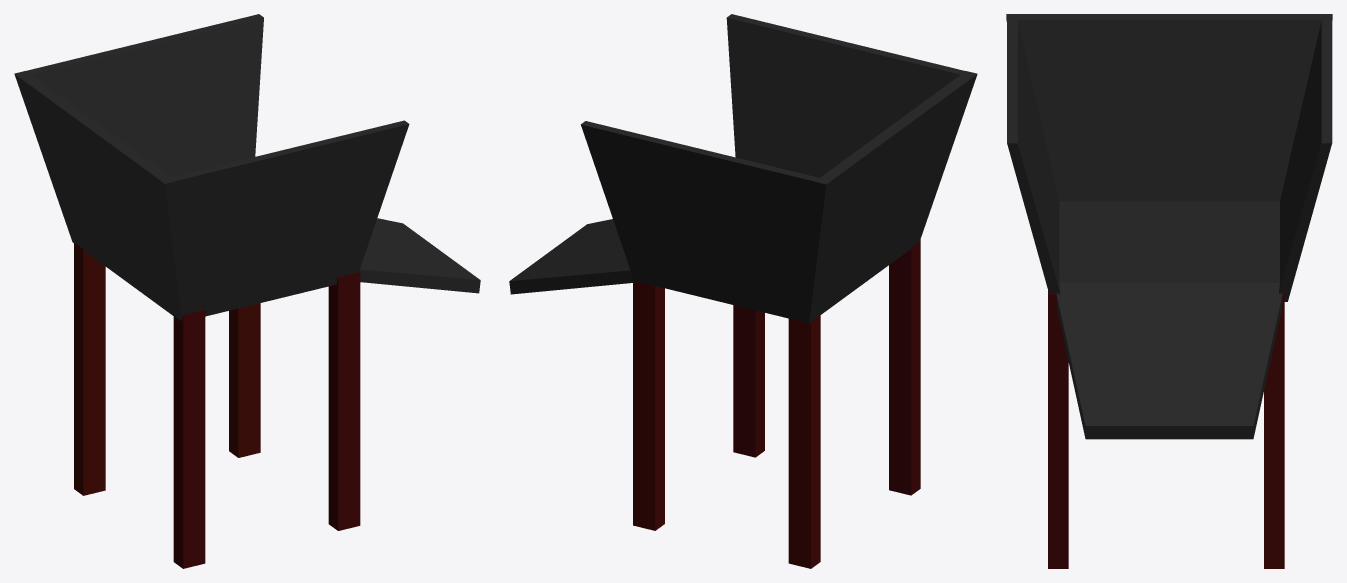
The model's file is nagruz.fbx.
3 renders of one model, left to right at view 1: azimuth 30°, elevation 25°; view 2: azimuth 150°, elevation 25°; view 3: azimuth 270°, elevation 25°, orthographic. The views are drawn at different scales.
Visible parts, largest first — view 1: Grid.003, Grid.002, Grid.004, Cube.003, Cube, Cube.002, Grid.001, Cube.001; view 2: Grid.002, Grid.003, Grid.004, Cube.002, Cube.001, Cube.003, Grid.001, Cube; view 3: Grid.004, Grid.001, Cube.004, Grid.002, Grid.003, Cube, Cube.001.
Part boxes in pixels (x1,y1,x2,y2): Grid.003: (165, 120, 409, 316); Grid.002: (26, 14, 263, 177); Grid.004: (14, 71, 193, 320); Cube.003: (173, 309, 205, 568); Cube: (328, 271, 360, 530); Cube.002: (74, 242, 105, 495); Grid.001: (359, 218, 480, 293); Cube.001: (229, 303, 260, 457); Grid.002: (580, 121, 823, 320); Grid.003: (726, 14, 966, 177); Grid.004: (796, 71, 977, 323); Cube.002: (788, 314, 820, 568); Cube.001: (633, 278, 664, 530); Cube.003: (889, 239, 920, 495); Grid.001: (509, 219, 632, 294); Cube: (733, 305, 764, 457); Grid.004: (1006, 14, 1332, 201); Grid.001: (1056, 283, 1282, 439); Cube.004: (1059, 201, 1279, 282); Grid.002: (1279, 20, 1332, 301); Grid.003: (1007, 17, 1060, 293); Cube: (1048, 290, 1068, 568); Cube.001: (1264, 294, 1284, 568).
Bounding box in the file's own units: 583 × 646 × 432.
